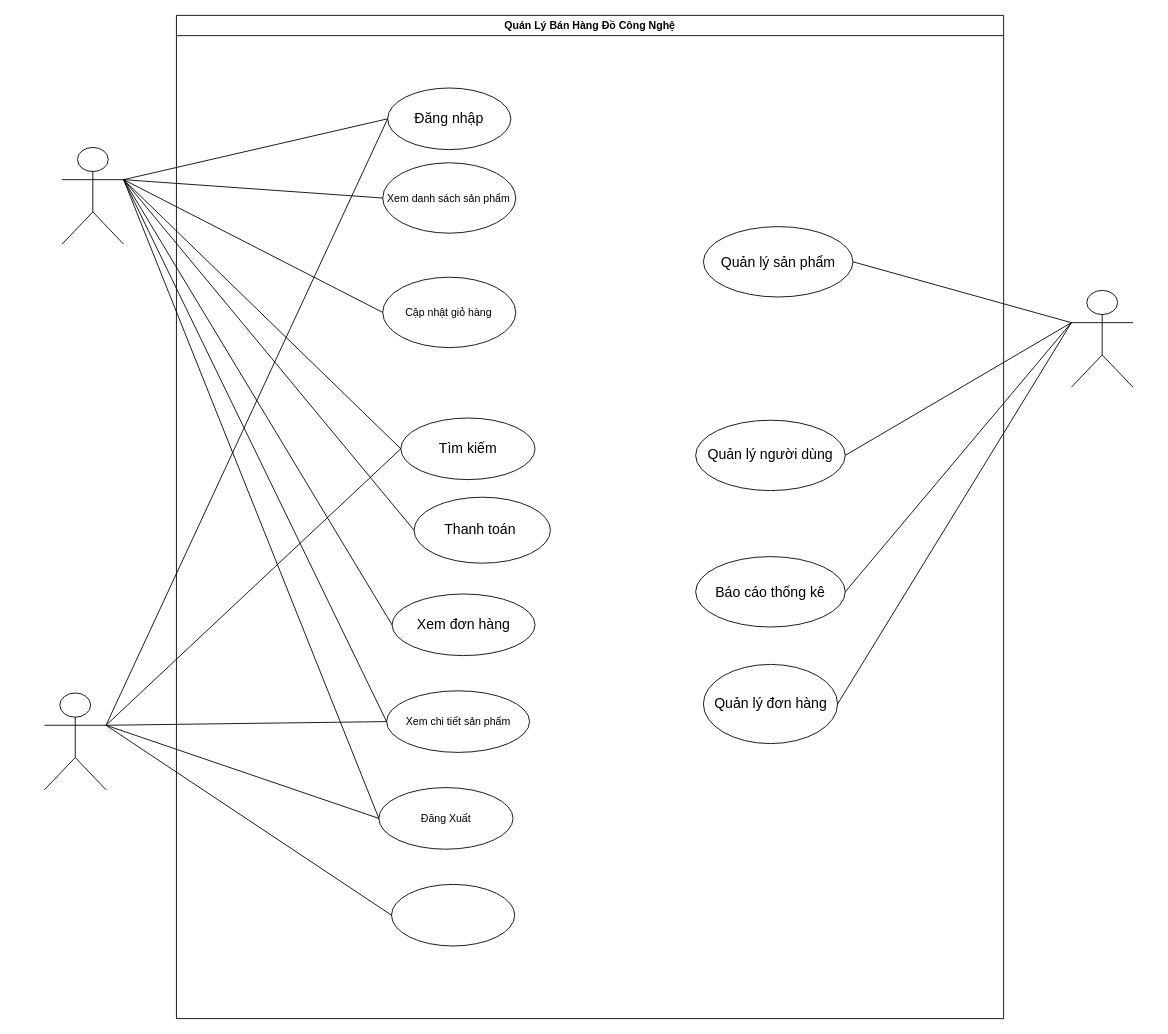
This 1168x1034 diagram has some shape labels left out. The centre of each missing label's shape, as x and y in pixels:
Khách hàng (customer): point 92,195
Khách viếng thăm (guest): point 75,741
Quản trị viên (admiin): point 1102,338
Đăng ký: point 453,915
